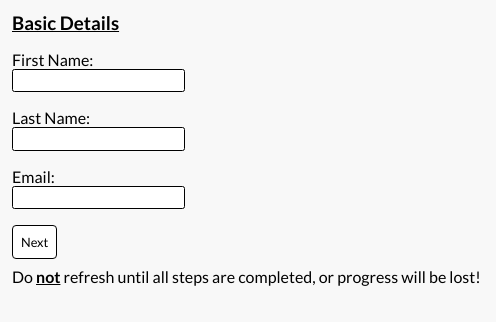
Test: Form1 › show email field validation for incorrect format
Type "invalid email" into the field labelled "Email:".
click(99, 198); type("invalid email")  # box [12,186,185,209]
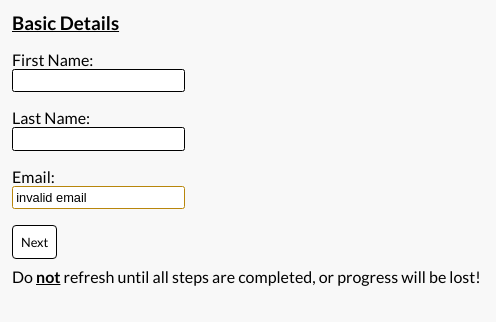
Leave the field labelled "Email:", box [12,186,185,209]
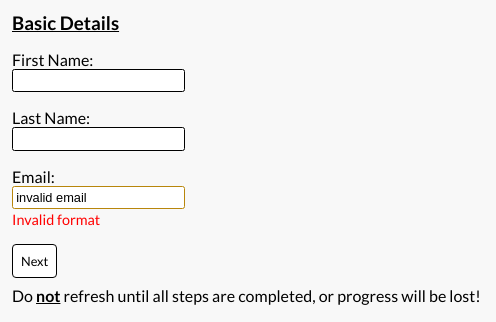
Expected: the text "Invalid format" is shown, [12,211,100,228]
